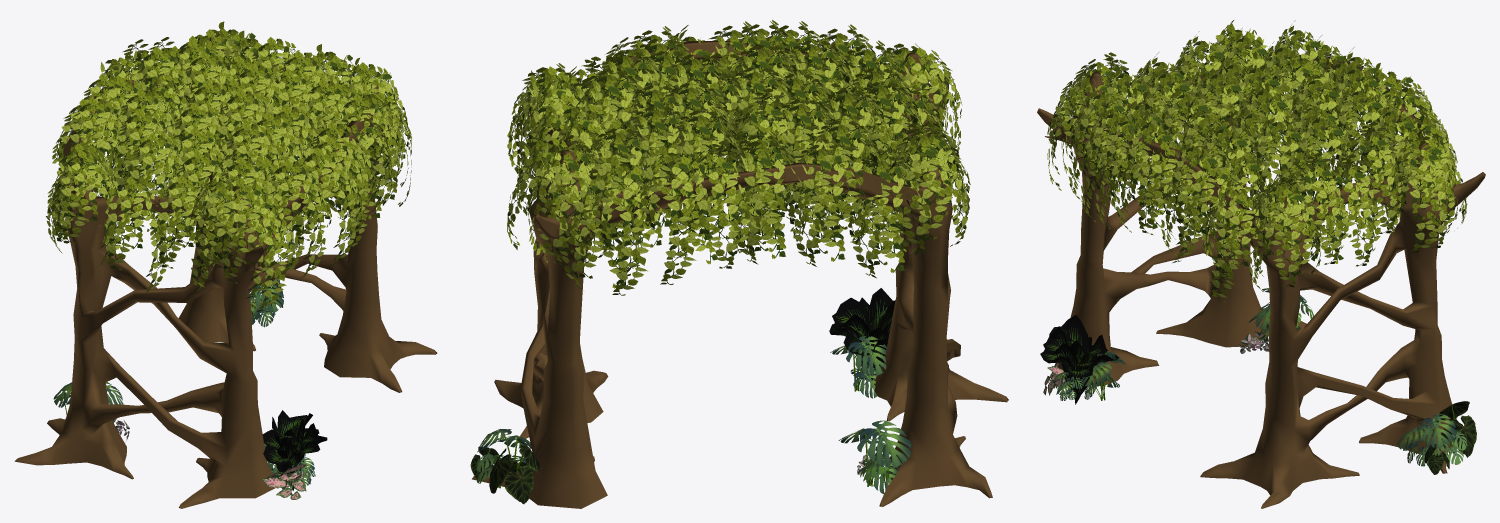
Rendered from Plant stall.fbx.
3 renders of one model, left to right at view 1: azimuth 30°, elevation 25°; view 2: azimuth 150°, elevation 25°; view 3: azimuth 270°, elevation 25°, orthographic. The views are drawn at different scales.
Visible parts, largest first — view 1: VinePotLong_62, pCylinder7, Monstera_008; view 2: VinePotLong_62, pCylinder7, Monstera_008; view 3: VinePotLong_62, pCylinder7, Monstera_008.
Boxes of the visible parts, left/top/right/bottom form: VinePotLong_62: left=46, top=21, right=411, bottom=311; pCylinder7: left=14, top=35, right=437, bottom=508; Monstera_008: left=53, top=279, right=327, bottom=499; VinePotLong_62: left=507, top=20, right=970, bottom=295; pCylinder7: left=472, top=41, right=1008, bottom=508; Monstera_008: left=470, top=288, right=911, bottom=504; VinePotLong_62: left=1047, top=20, right=1467, bottom=302; pCylinder7: left=1037, top=52, right=1485, bottom=508; Monstera_008: left=1040, top=288, right=1476, bottom=474.
Bounding box in the file's own units: 65.73 × 51.84 × 59.05.
